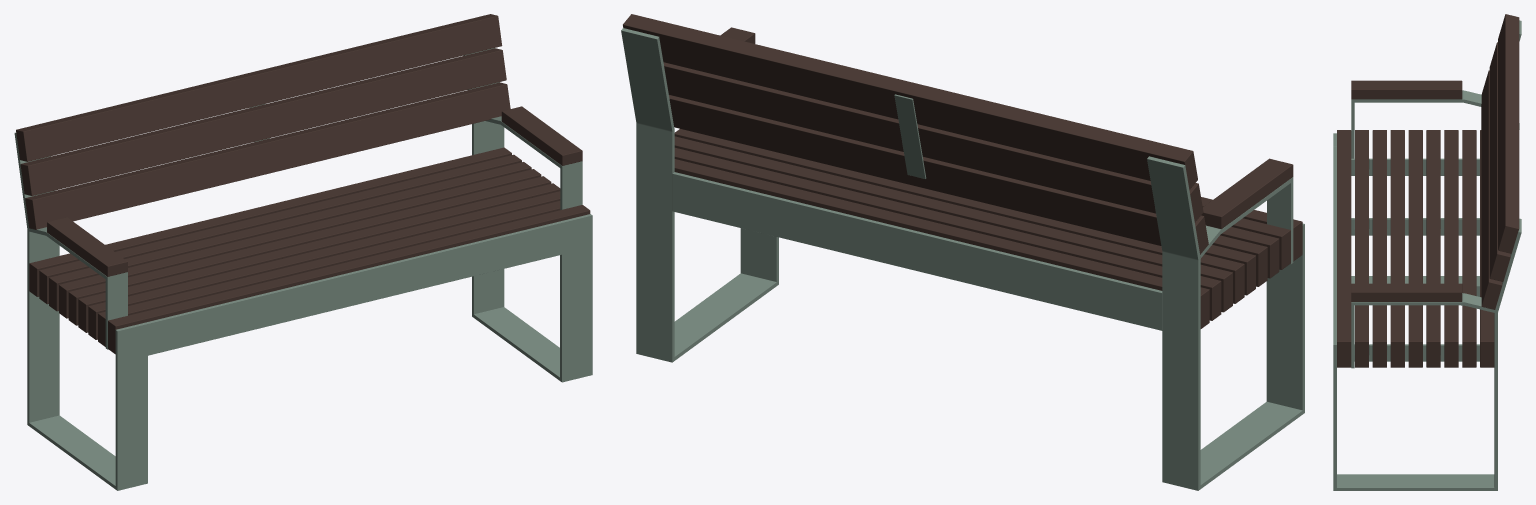
3 views of the same model, side by side, from view 1: azimuth 30°, elevation 25°; view 2: azimuth 150°, elevation 25°; view 3: azimuth 270°, elevation 25° (orthographic). The views are drawn at different scales.
Visible parts, largest first — view 1: K6_1400; view 2: K6_1400; view 3: K6_1400.
Boxes of the visible parts, bbox=[...] form: K6_1400: bbox=[14, 14, 592, 490]; K6_1400: bbox=[621, 14, 1304, 490]; K6_1400: bbox=[1333, 14, 1521, 490].
Size of the model in its own units: 1.4 by 0.8179 by 0.5259.
